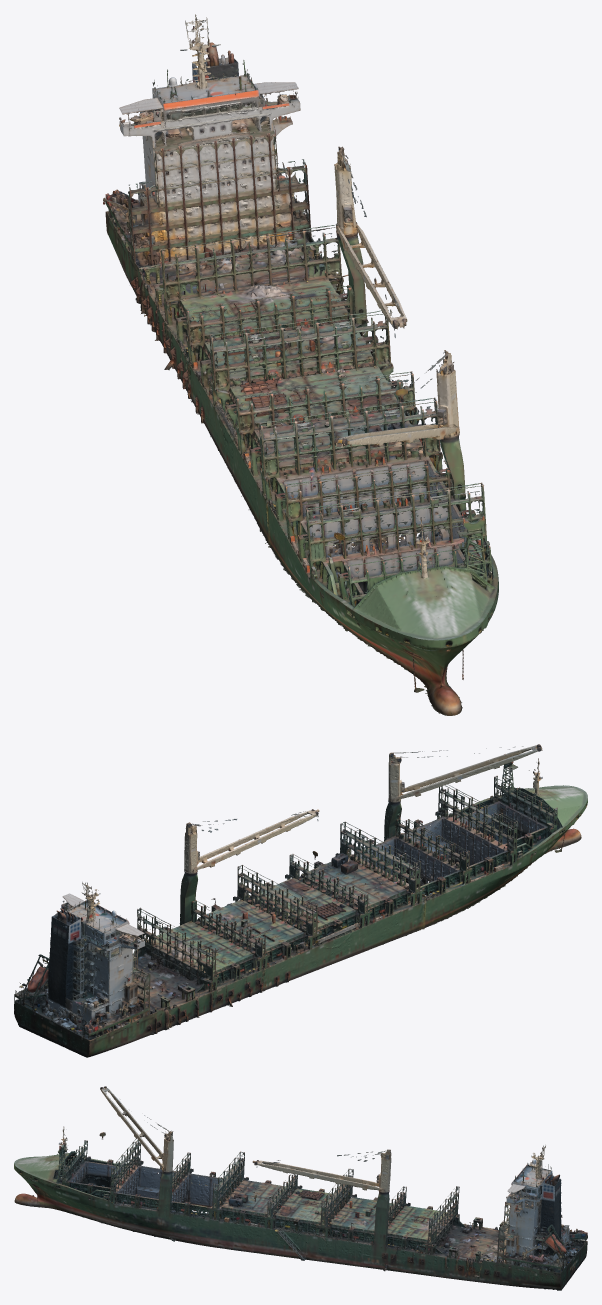
Rendered from stranded_cargo_ship_giant_vessel_rusty_ship.glb.
3 renders of one model, top to bottom at view 1: azimuth 30°, elevation 25°; view 2: azimuth 150°, elevation 25°; view 3: azimuth 270°, elevation 25°, orthographic. The views are drawn at different scales.
Size of the model in its own units: 131 by 74.57 by 315.
1 material, 1 textured.
